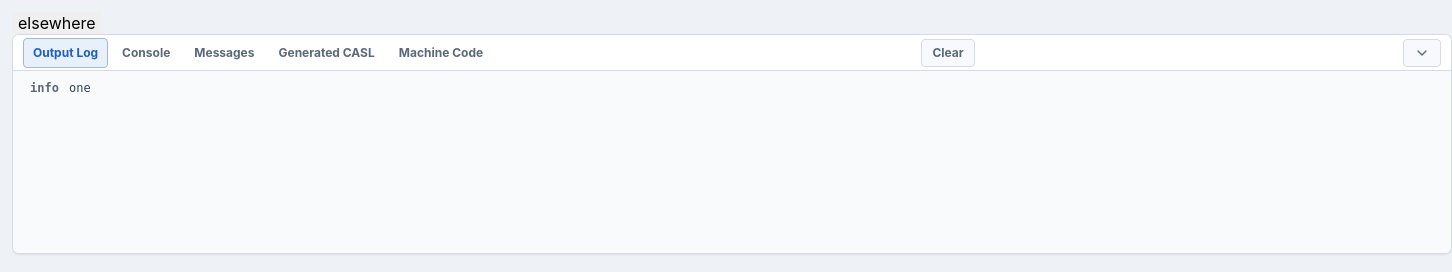
Test: output dock › collapses to its tab row and says so to assistive technology
This screenshot has width=1452, height=272.
Click the button with test id "dock-collapse-toggle": x=1422, y=52 x1=1403 y1=38 x2=1441 y2=66
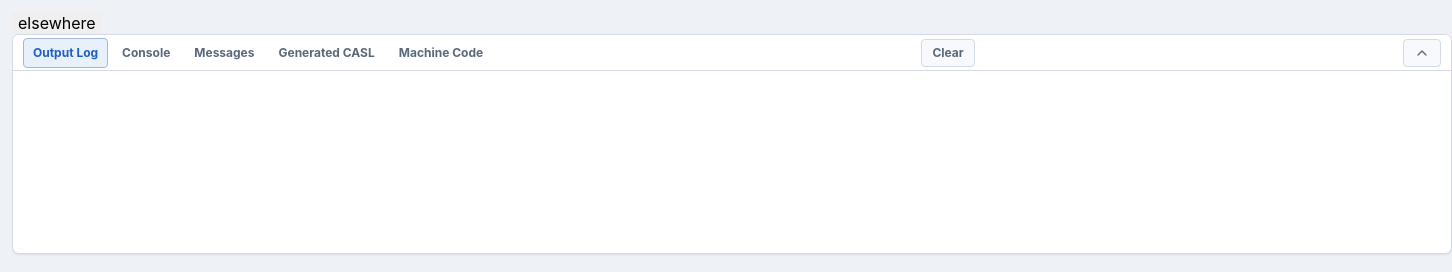
Expected: the number of tabs is 5, x1=23 y1=38 x2=108 y2=68; x1=112 y1=38 x2=180 y2=68; x1=184 y1=38 x2=264 y2=68; x1=268 y1=38 x2=385 y2=68; x1=389 y1=38 x2=493 y2=68
Now the button with test id "dock-collapse-toggle" is collapsed, box x1=1403 y1=38 x2=1441 y2=66
